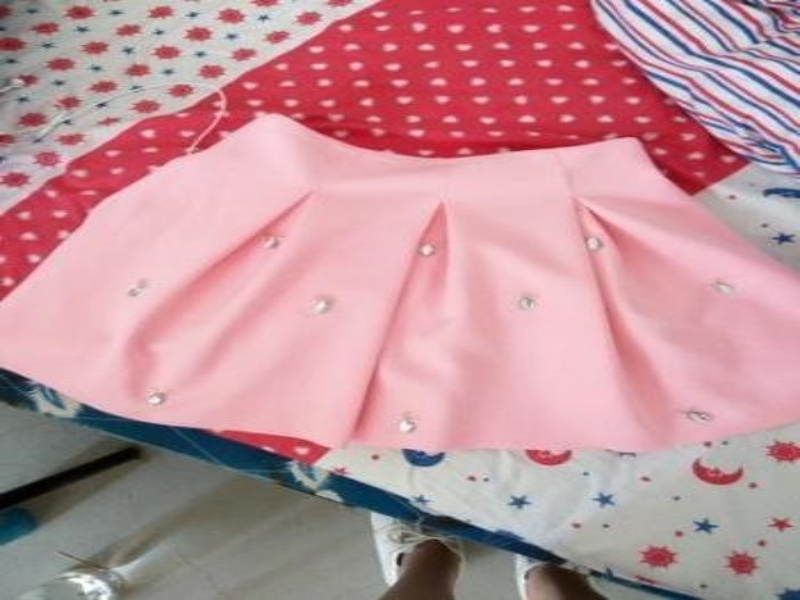skirt: (2, 113, 798, 454)
